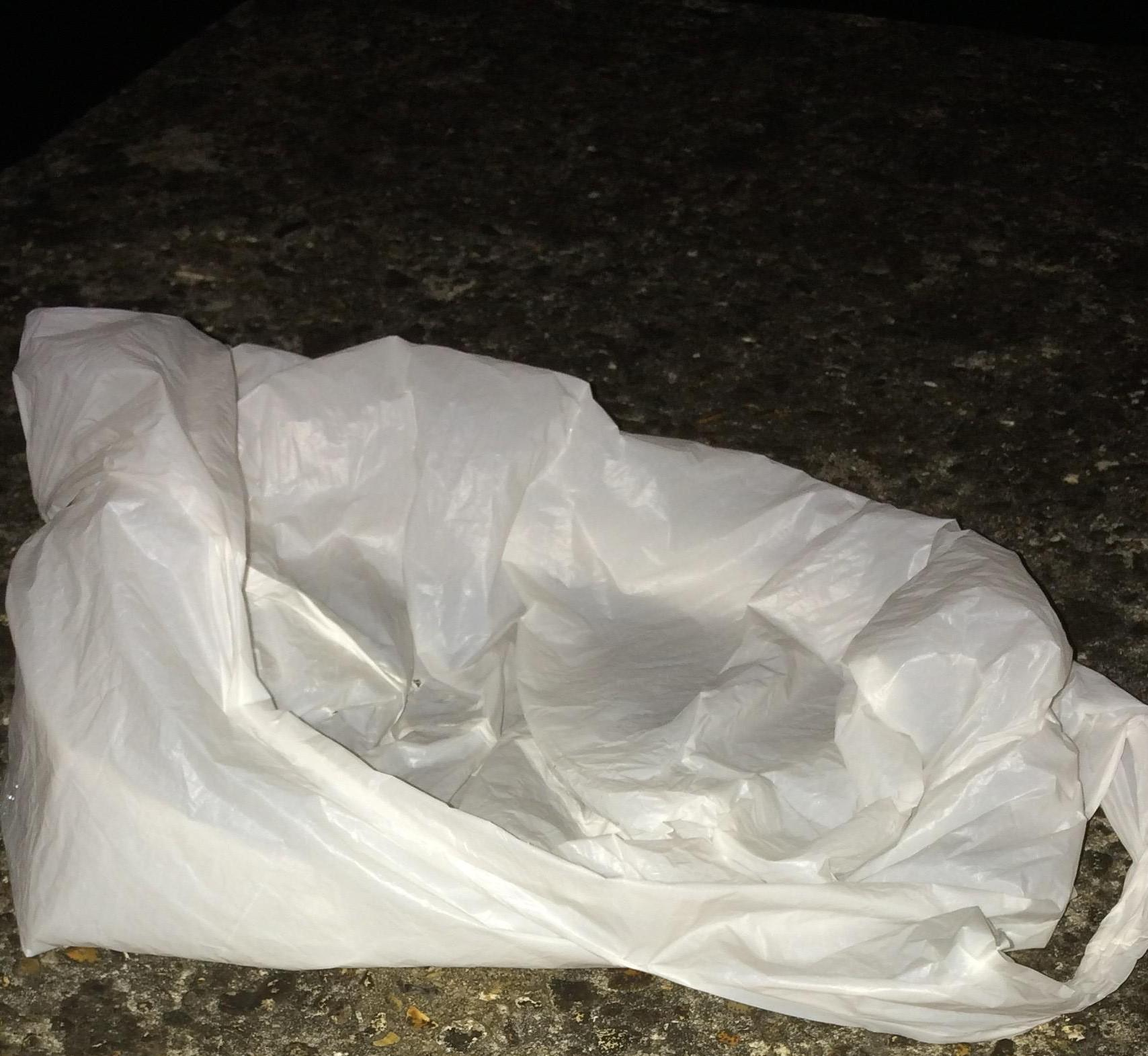Plastic: (0, 302, 1147, 1046)
